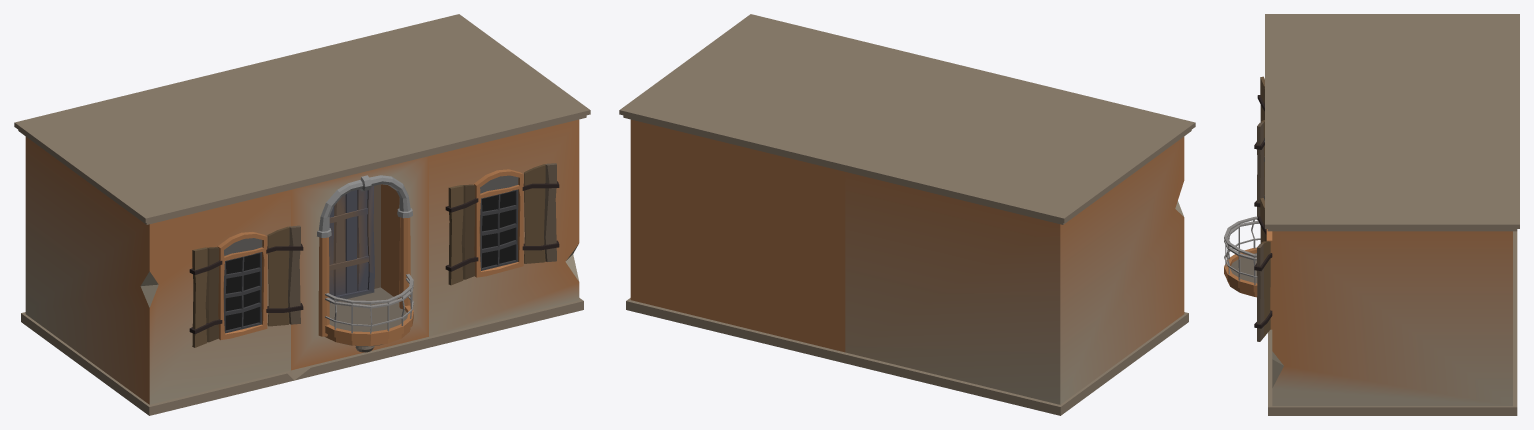
File: SM_Bld_Cuba_Room_Long_02.glb
3 views of the same model, side by side, from view 1: azimuth 30°, elevation 25°; view 2: azimuth 150°, elevation 25°; view 3: azimuth 270°, elevation 25° (orthographic). The views are drawn at different scales.
Visible parts, largest first — view 1: SM_Bld_Cuba_Room_Long_02; view 2: SM_Bld_Cuba_Room_Long_02; view 3: SM_Bld_Cuba_Room_Long_02.
Boxes of the visible parts, x1,y1,x2,y2 form: SM_Bld_Cuba_Room_Long_02: (14,14,590,415); SM_Bld_Cuba_Room_Long_02: (619,14,1195,415); SM_Bld_Cuba_Room_Long_02: (1224,14,1519,415).
Size of the model in its own units: 0.0776 by 0.0333 by 0.0461.
